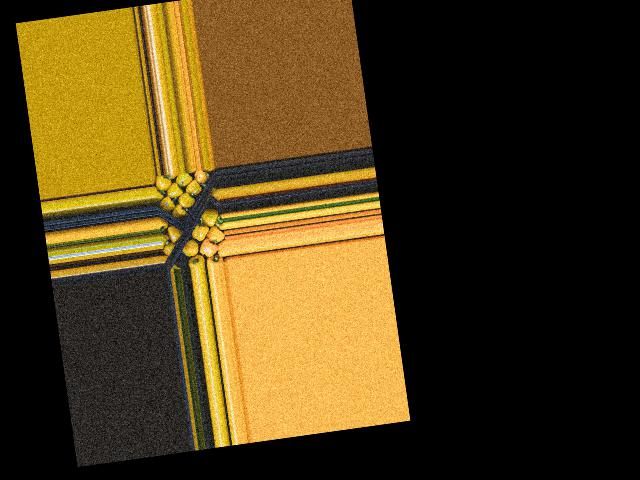bell_pepper: (152, 174, 170, 195)
